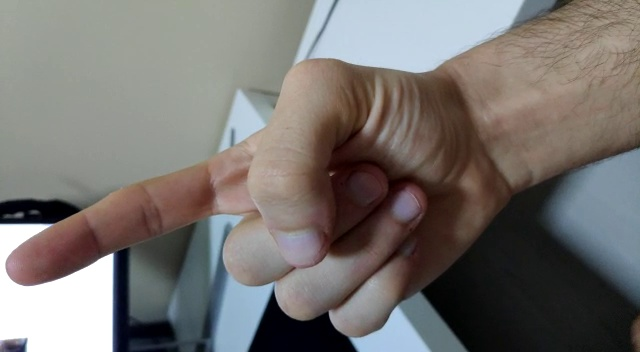One: (1, 22, 381, 342)
